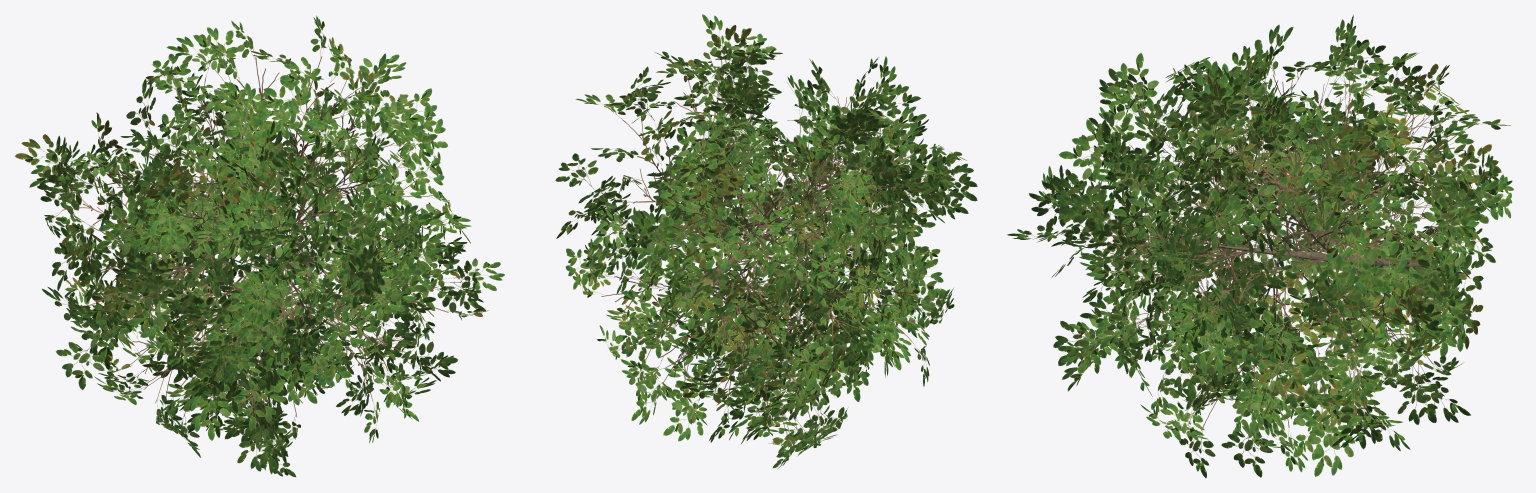
3 views of the same model, side by side, from view 1: azimuth 30°, elevation 25°; view 2: azimuth 150°, elevation 25°; view 3: azimuth 270°, elevation 25° (orthographic). The views are drawn at different scales.
Visible parts, largest first — view 1: Bush_Hero; view 2: Bush_Hero; view 3: Bush_Hero.
Part boxes in pixels (x1,y1,x2,y2): Bush_Hero: (14, 15, 504, 477); Bush_Hero: (555, 14, 977, 469); Bush_Hero: (1007, 14, 1513, 478).
Size of the model in its own units: 7.37 by 7.08 by 7.41.
Materials: 7 (7 with a texture image).
